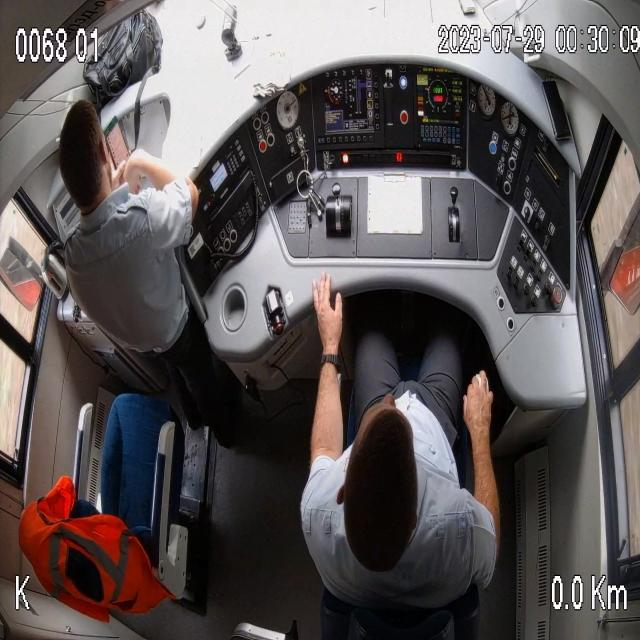smartphone: (103, 113, 135, 189)
